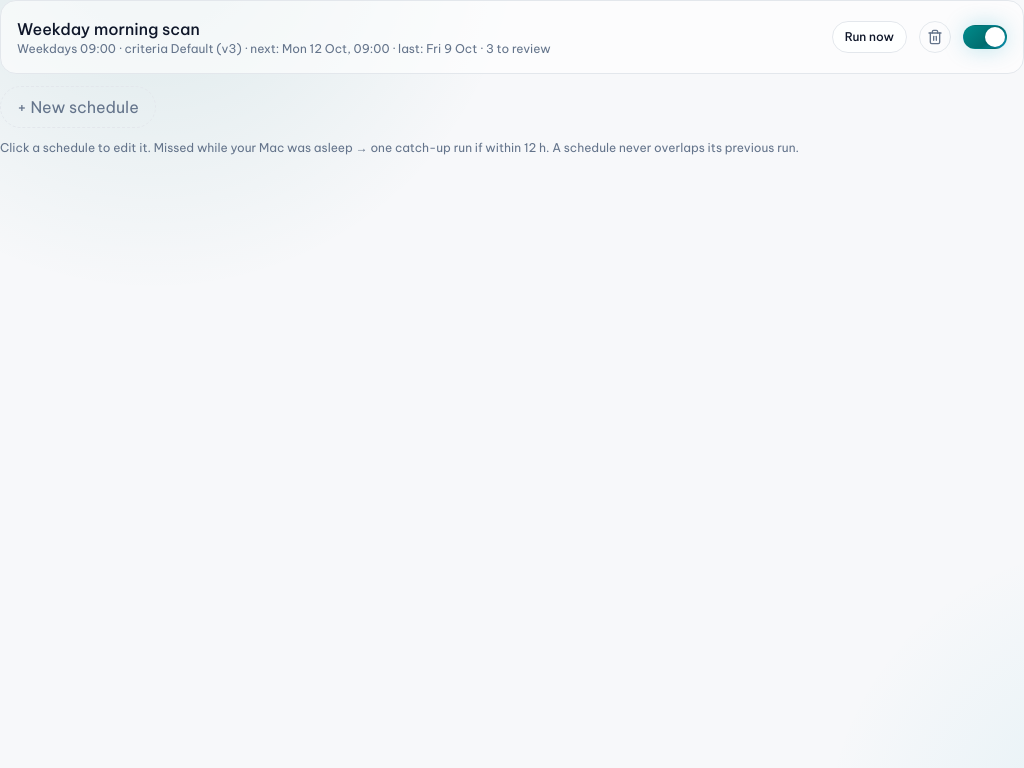
it: SchedulesScreen (UC-21) › requires 5 cron fields for a custom repeat
Click the button with aria-label "Edit Weekday morning scan".
click(108, 29)  # box [17,17,551,57]
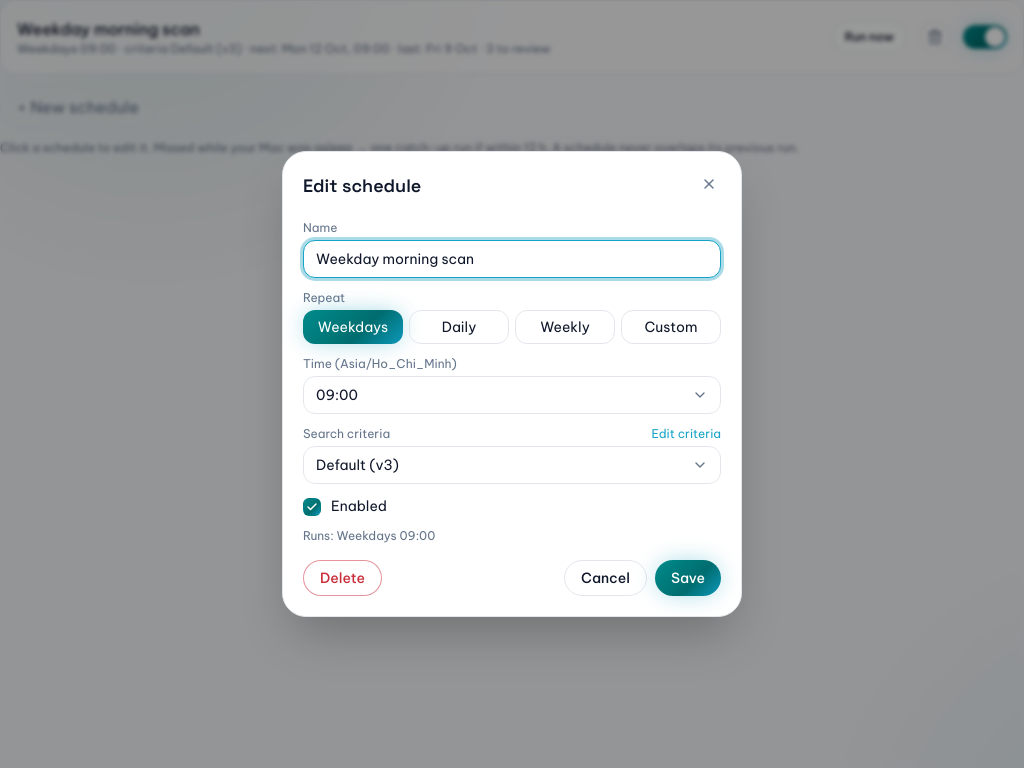
Expected: the heading "Edit schedule" is shown, [303,172,421,200]
Click the radio button labelled "Custom".
click(671, 327)  # box [621,310,721,344]
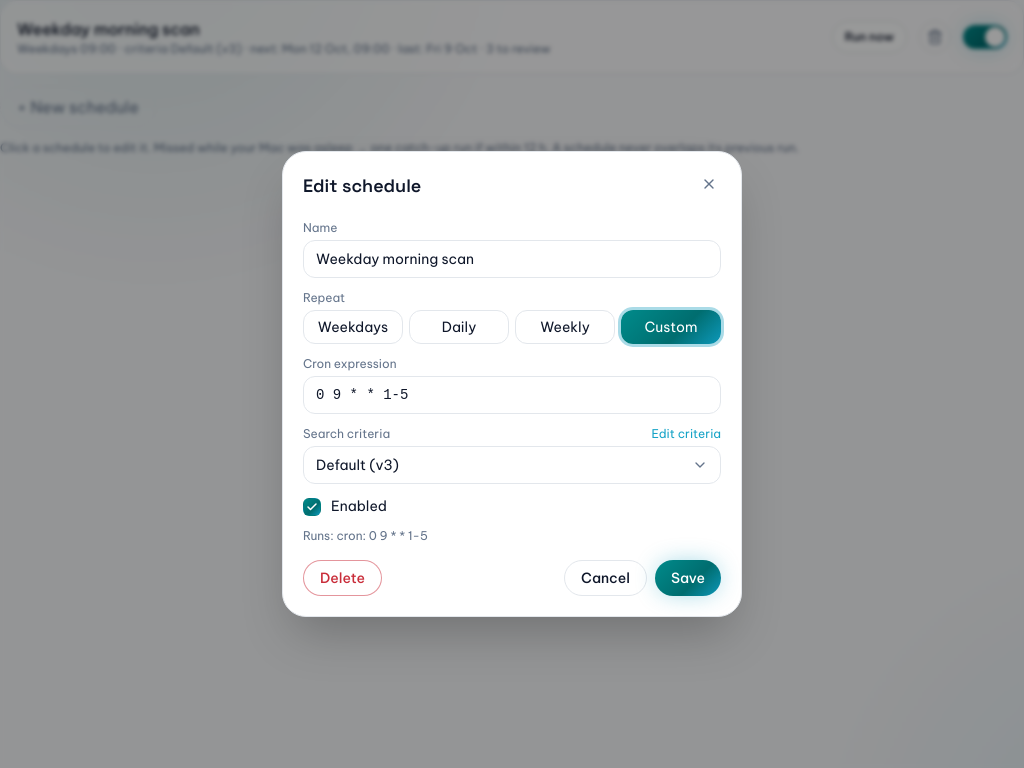
Expected: the field labelled "Cron expression" holds "0 9 * * 1-5"
Type "0 9 * *" into the field labelled "Cron expression".
click(512, 395); type("0 9 * *")  # box [303,376,721,414]
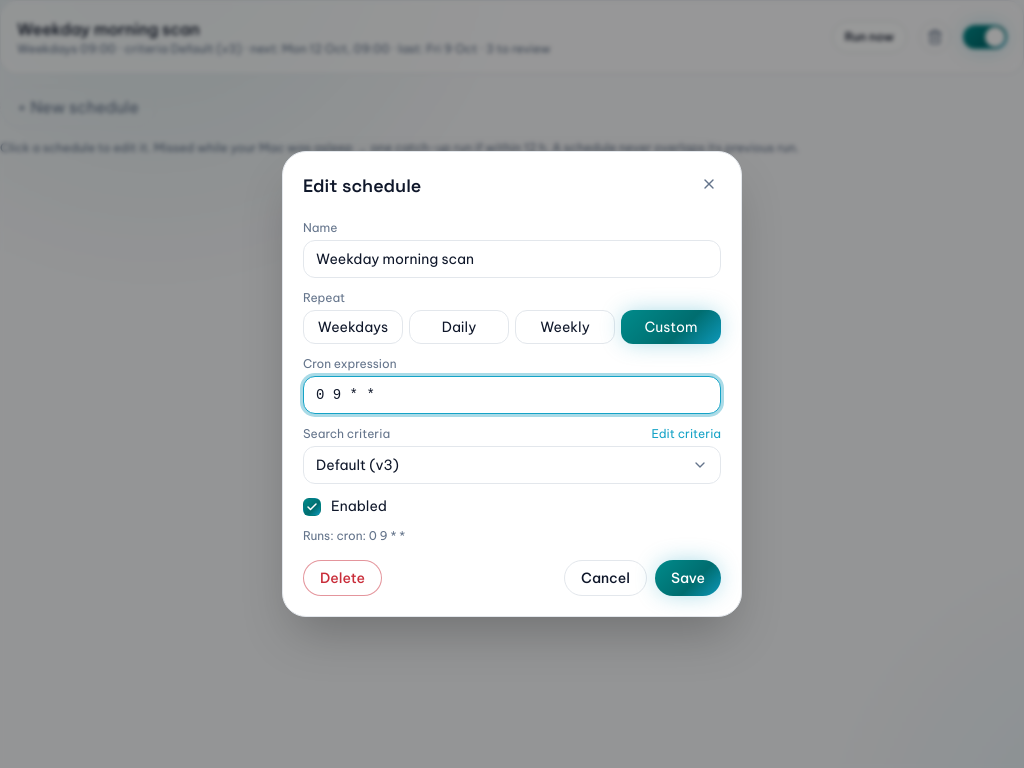
Click the button "Save".
click(688, 578)  # box [655,560,721,596]
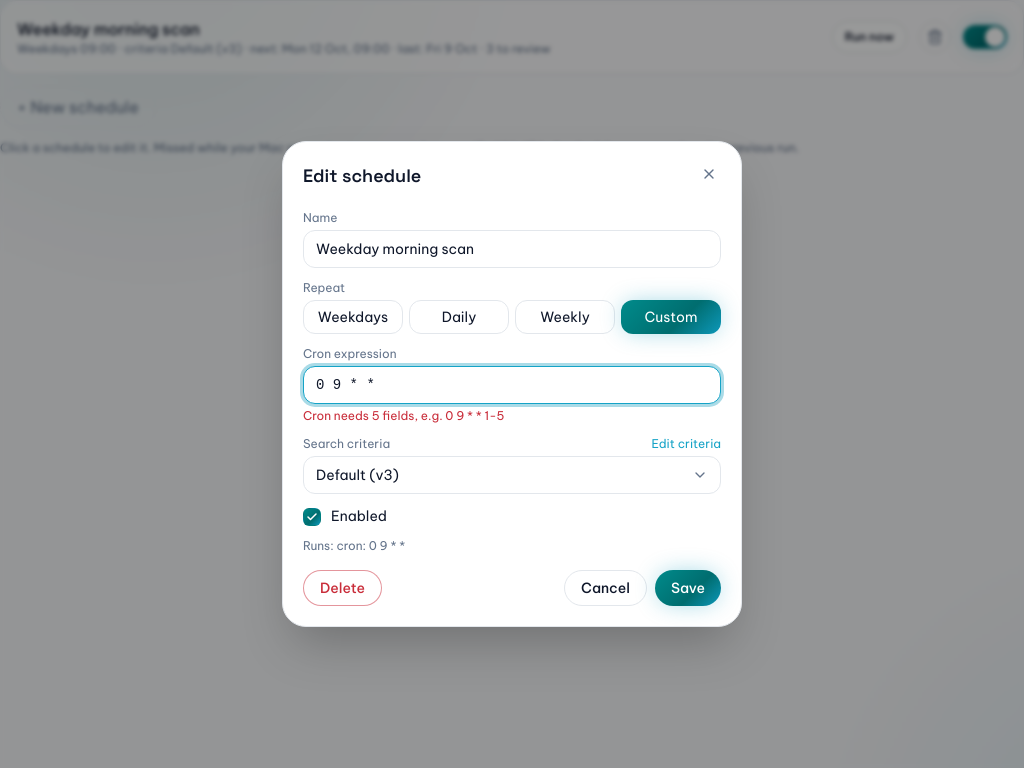
Expected: the message reads "Cron needs 5 fields, e.g. 0 9 * * 1-5", [303,408,504,423]
